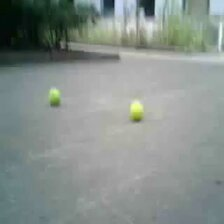tennis: (128, 101, 143, 120), (47, 88, 60, 104)
